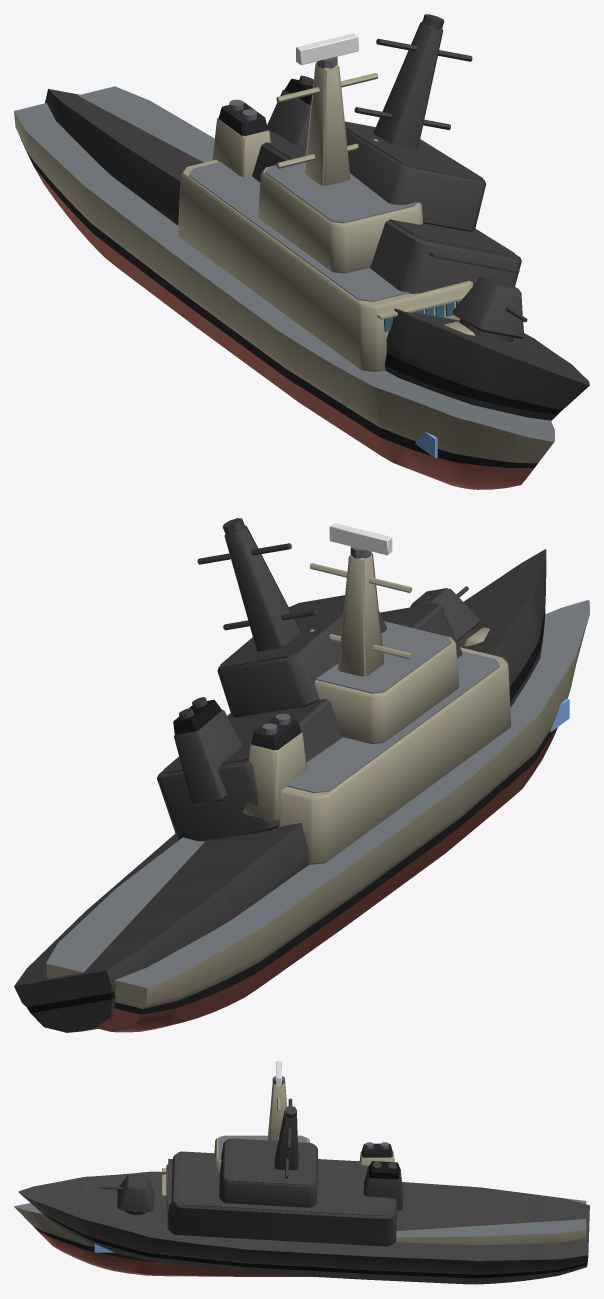
File: gunboat__island_class_patrol_boat.glb
The picture shows the model from 3 angles, top to bottom: view 1: azimuth 30°, elevation 25°; view 2: azimuth 150°, elevation 25°; view 3: azimuth 270°, elevation 25°; orthographic projection. The views are drawn at different scales.
Parts seen in each view (by area): view 1: Hull_Mesh, Wreck, Radar_Mesh; view 2: Hull_Mesh, Wreck, Radar_Mesh; view 3: Wreck, Hull_Mesh.
Boxes of the visible parts, x1,y1,x2,y2 form: Hull_Mesh: [14, 62, 554, 489]; Wreck: [45, 14, 589, 420]; Radar_Mesh: [296, 33, 358, 68]; Hull_Mesh: [46, 552, 589, 1032]; Wreck: [14, 518, 546, 1032]; Radar_Mesh: [329, 523, 392, 558]; Wreck: [18, 1098, 589, 1284]; Hull_Mesh: [14, 1082, 586, 1276].
Size of what is drawn, in the model's own units: 9.51 by 13.52 by 35.16.
